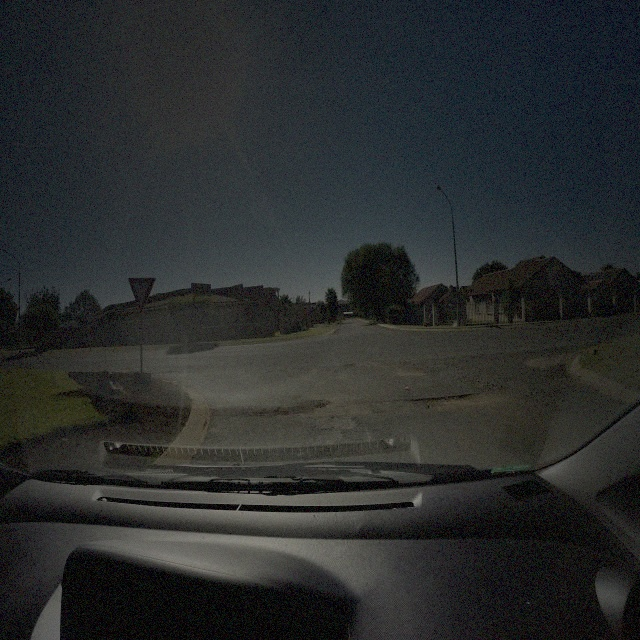pothole: (274, 398, 330, 414), (417, 394, 481, 406), (344, 360, 355, 370)
